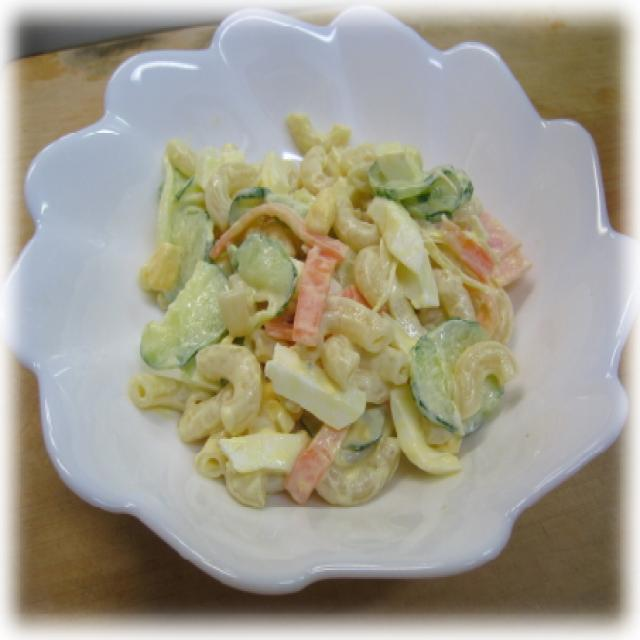蔬菜料理: (0, 0, 640, 605)
